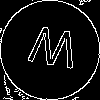W: (25, 25, 80, 78)
